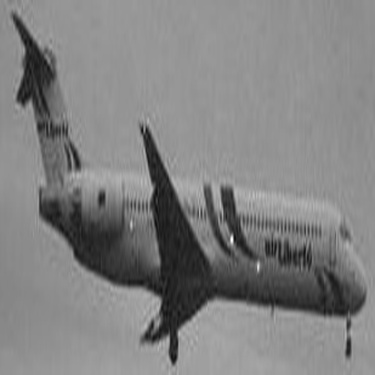airplane: (2, 1, 366, 368)
